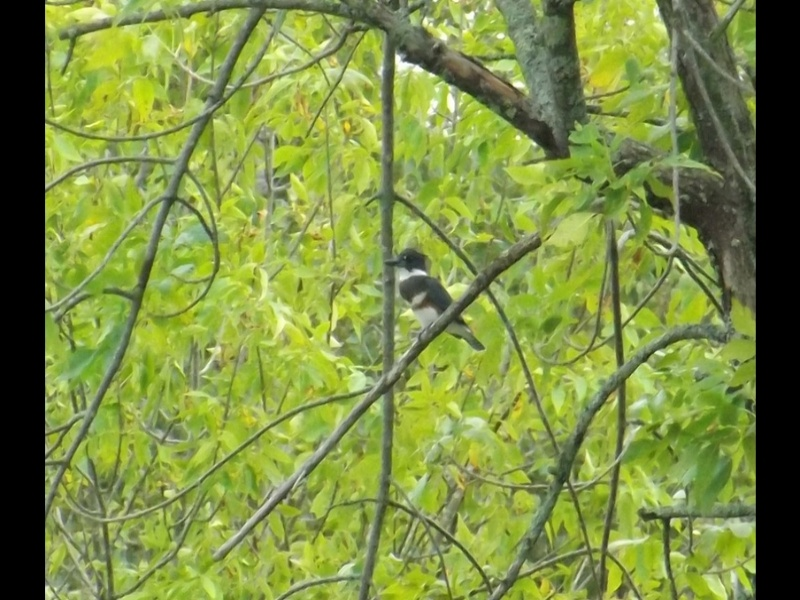kingfisher: (385, 244, 488, 354)
